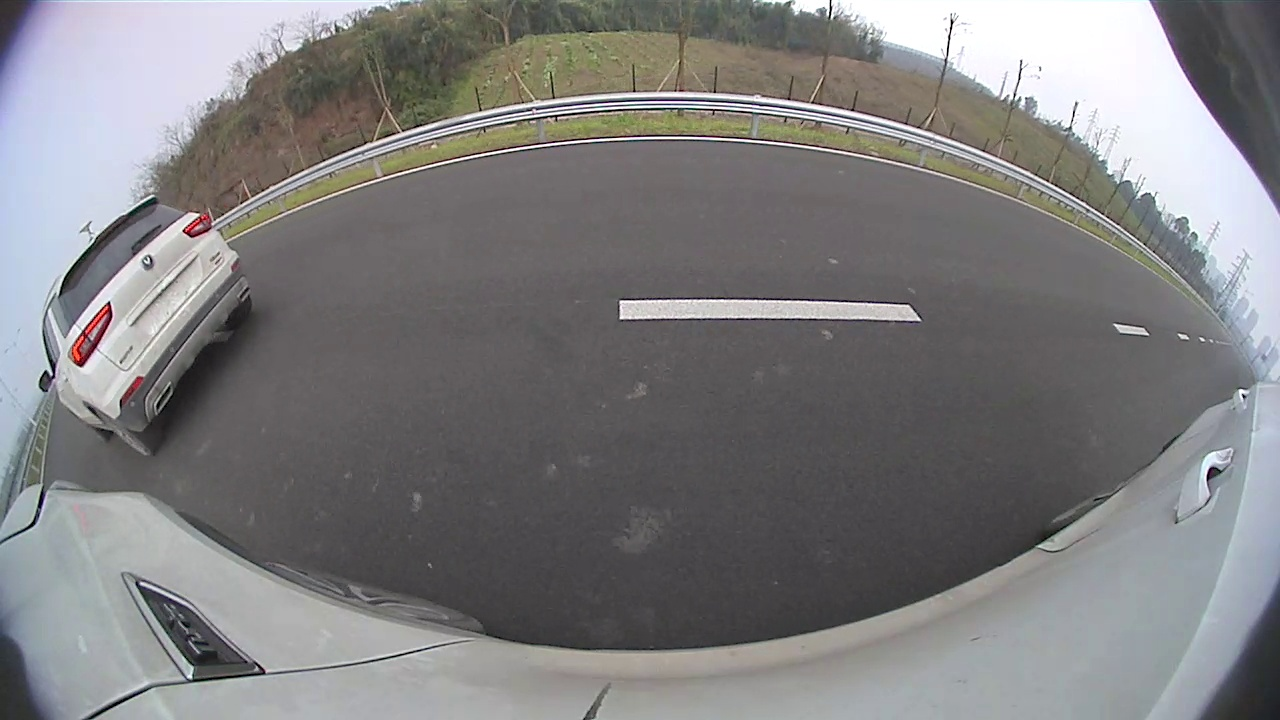car: (40, 196, 253, 456)
rear: (89, 394, 157, 466)
